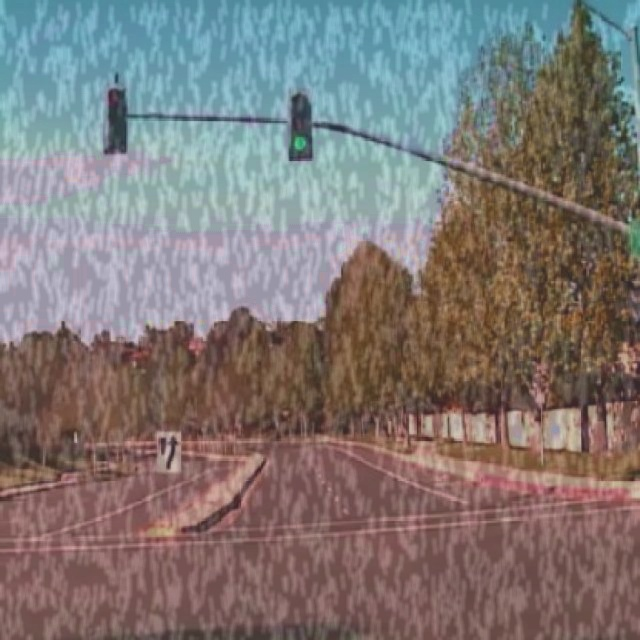keepRight: (155, 429, 181, 473)
